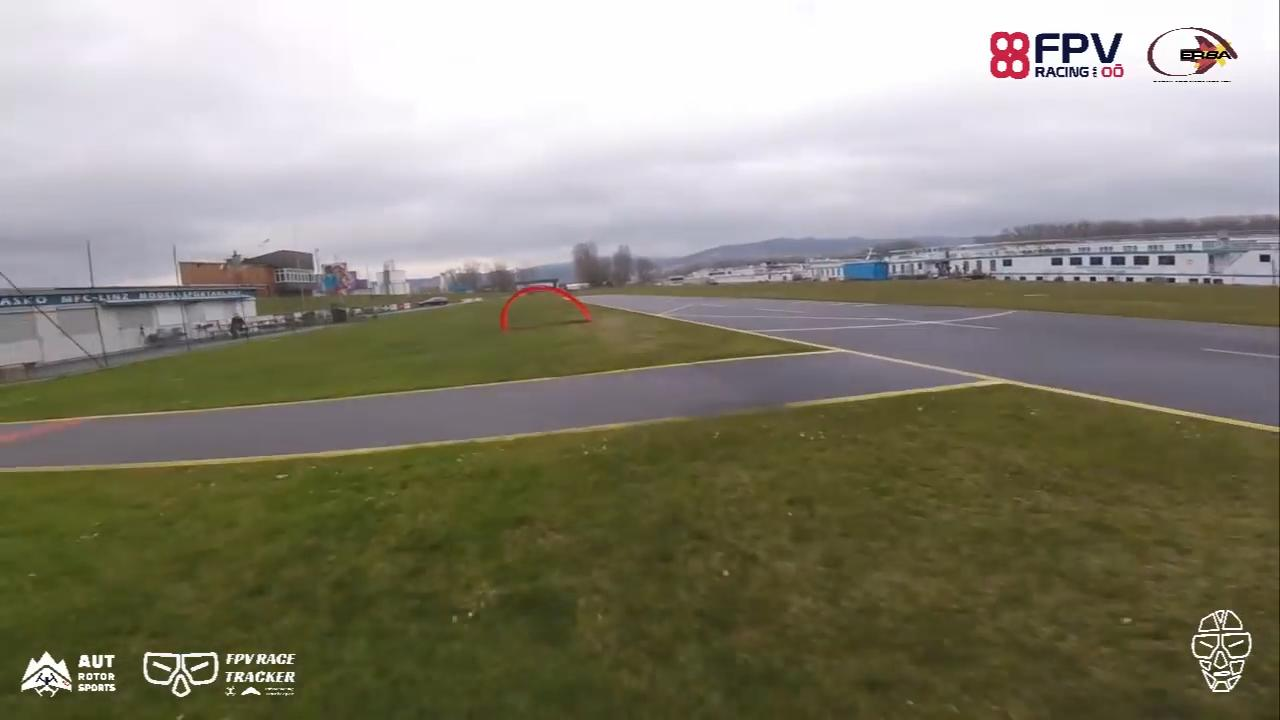gate: (499, 282, 593, 335)
